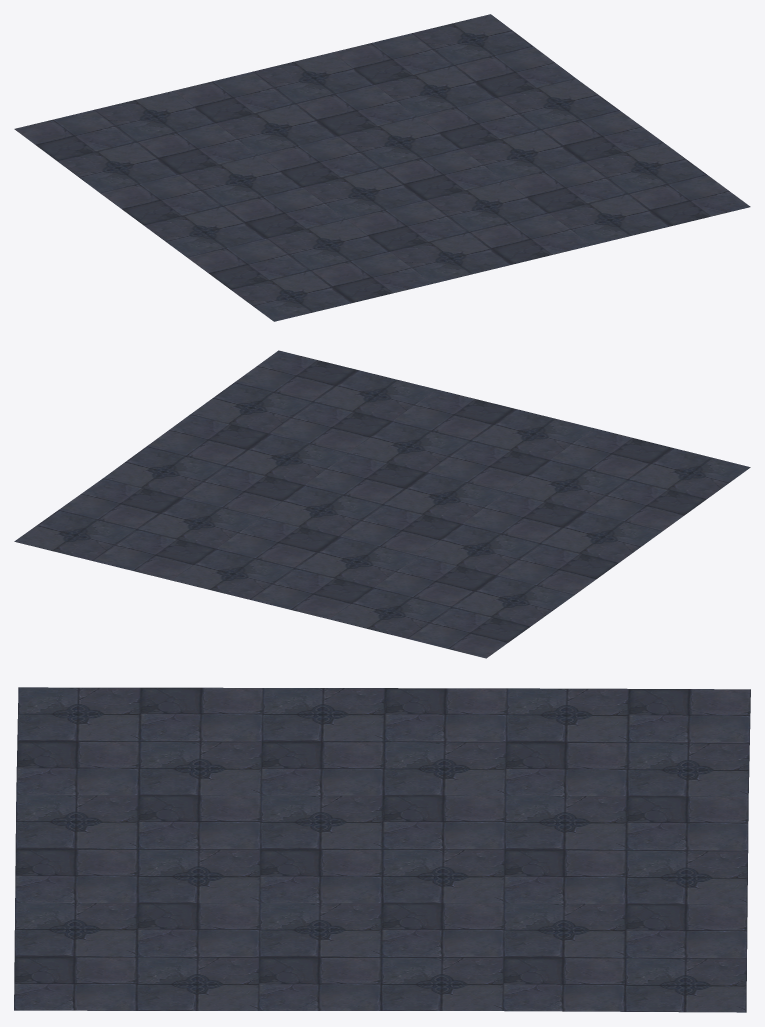
File: Yland2_bj_04 Yland2.FBX
The picture shows the model from 3 angles, top to bottom: view 1: azimuth 30°, elevation 25°; view 2: azimuth 150°, elevation 25°; view 3: azimuth 270°, elevation 25°; orthographic projection. The views are drawn at different scales.
Parts seen in each view (by area): view 1: Yland2_bj_04 Yland2; view 2: Yland2_bj_04 Yland2; view 3: Yland2_bj_04 Yland2.
Part boxes in pixels (<box>): Yland2_bj_04 Yland2: <box>14,14,750,321</box>; Yland2_bj_04 Yland2: <box>14,350,750,658</box>; Yland2_bj_04 Yland2: <box>14,687,750,1012</box>.
Bounding box in the file's own units: 17.61 × 0.00412 × 16.88.
